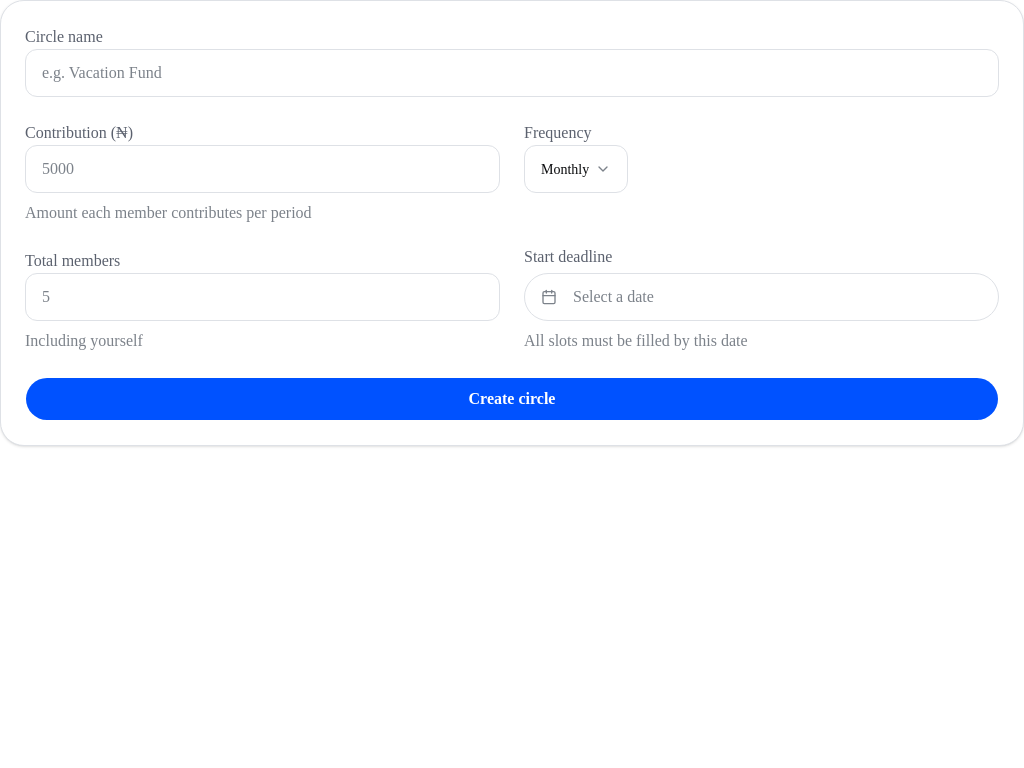
Circle Frontend Flow › validates CreateCircleForm negative values
The image size is (1024, 768).
Submit without filling fields
Click the button "Create circle" at (512, 399), box [25, 377, 999, 421]
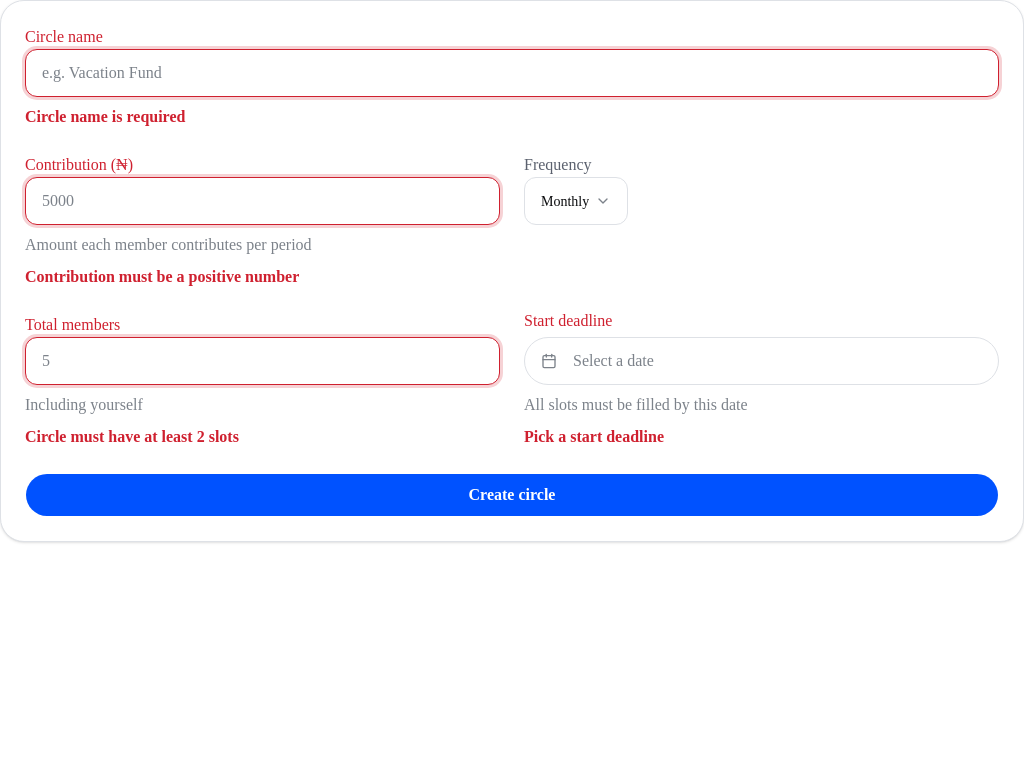
Expected: the text "Circle name is required" is shown, [25, 108, 185, 125]
Expected: the text "Contribution must be a positive number" is shown, [25, 268, 299, 285]
